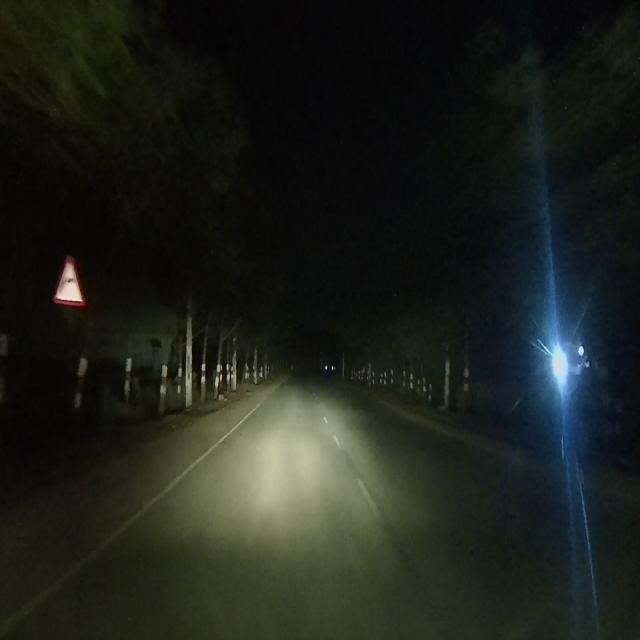right-hand-curve: (55, 253, 85, 302)
